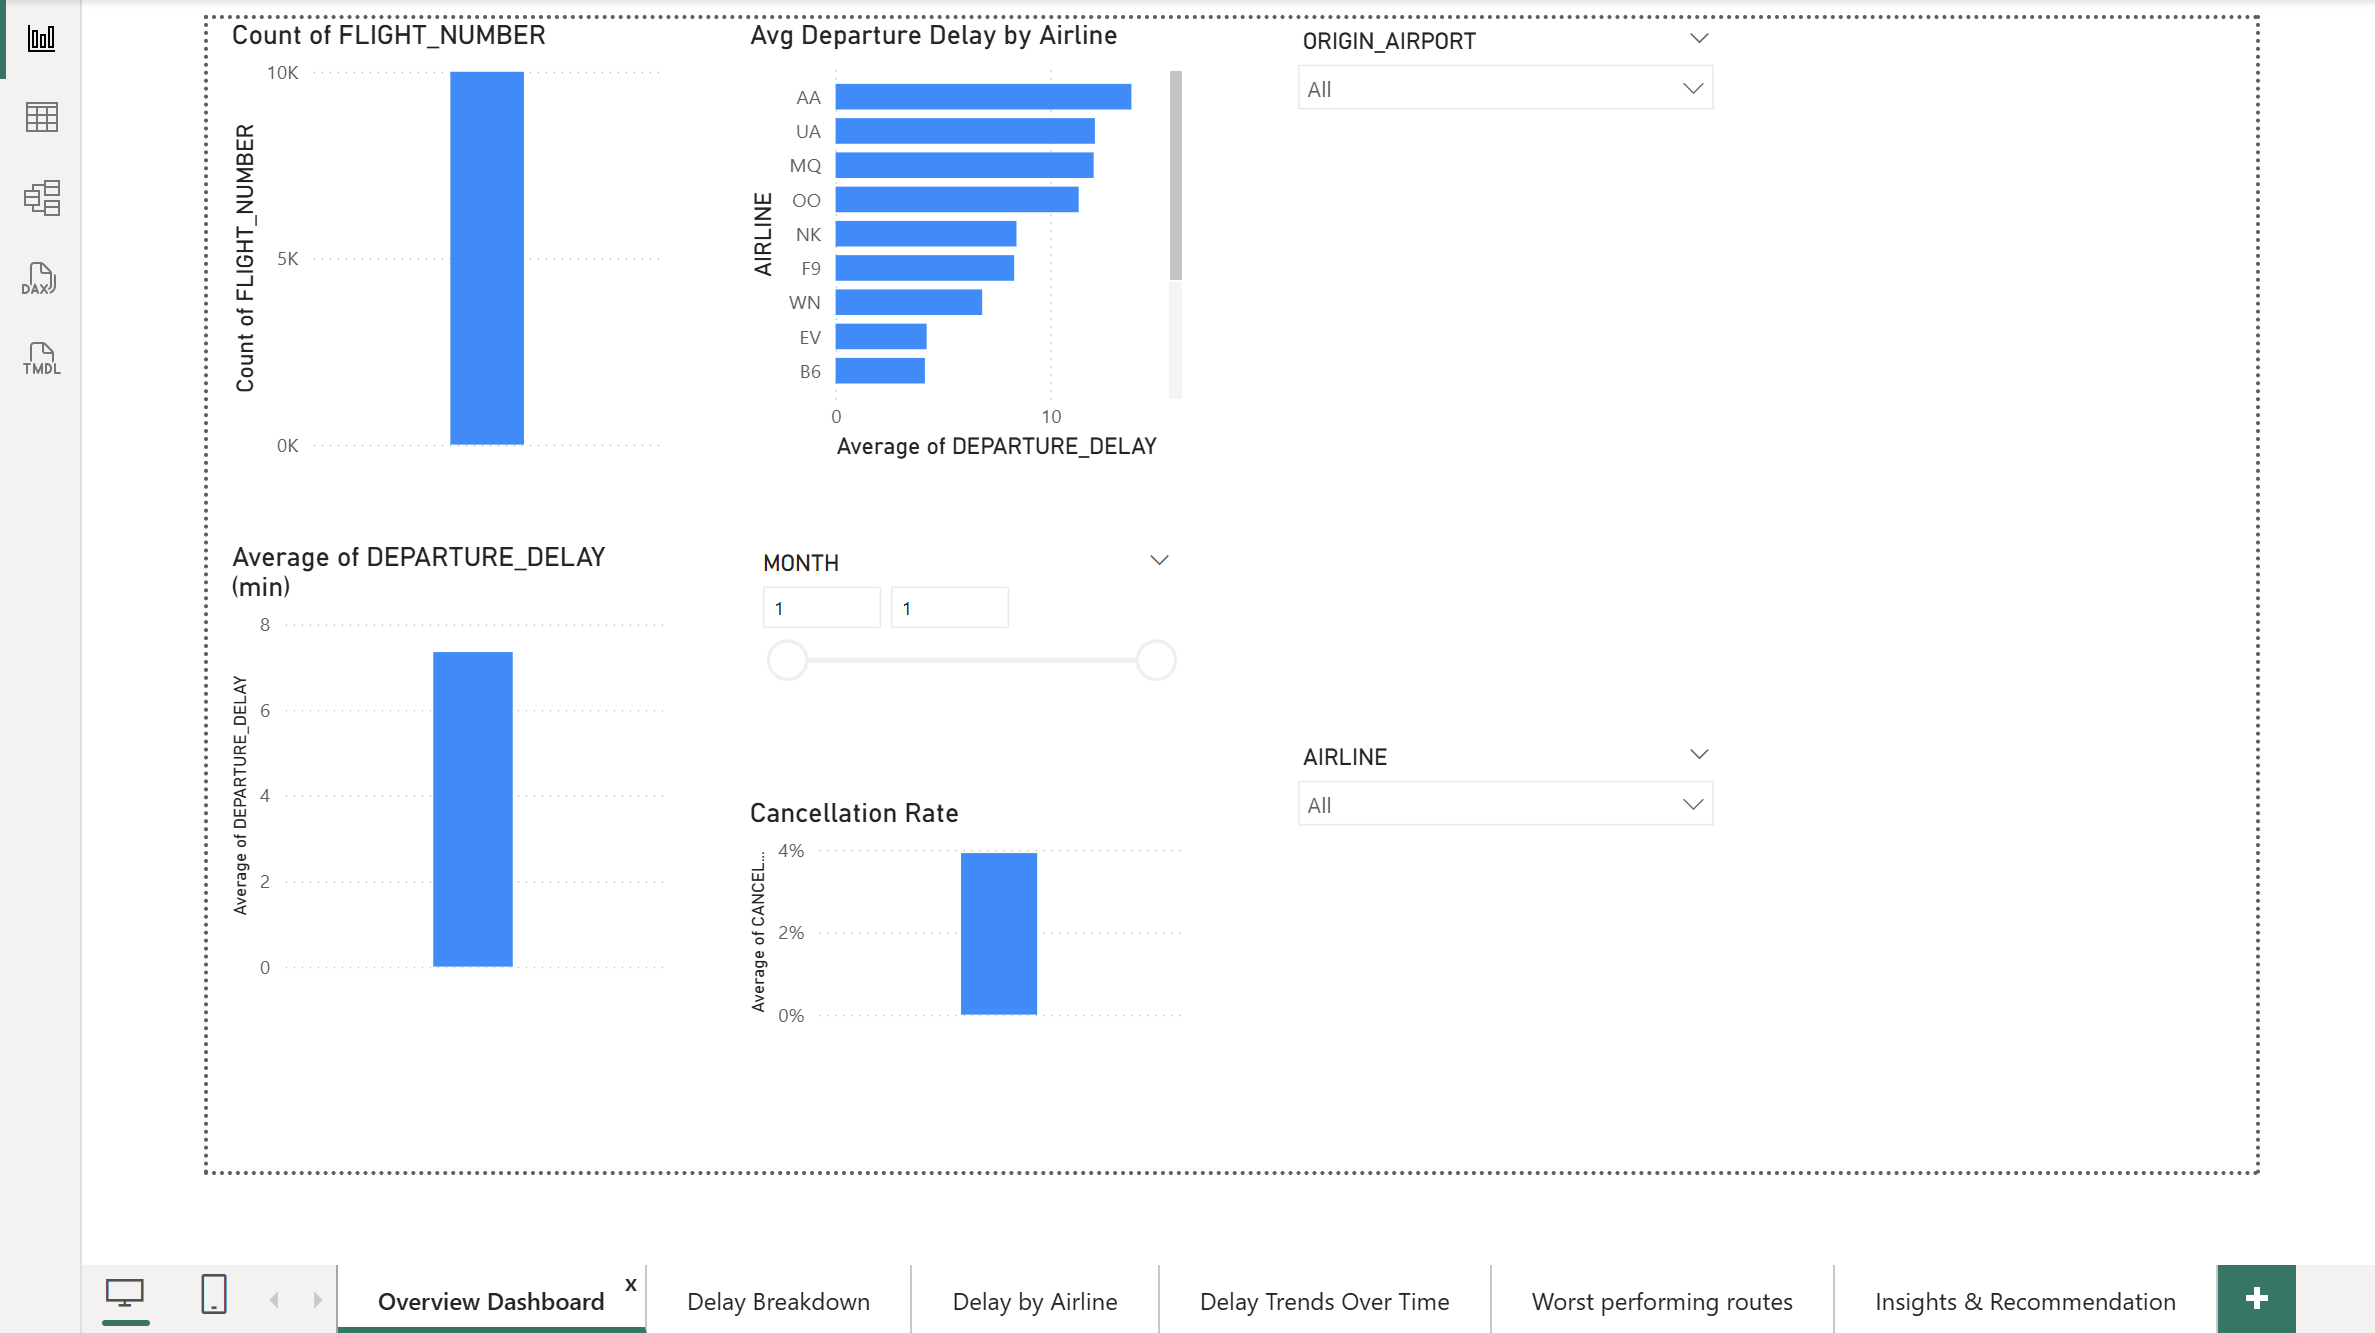

The dashboard page shown, as its layout file describes it:
{"tool":"powerbi","page":{"name":"Overview Dashboard","canvas":[1280,720],"ordinal":0},"visuals":[{"type":"clusteredColumnChart","fields":{"Y":["CountNonNull(flights.FLIGHT_NUMBER)"]},"box":[10,0,280,280],"z":0},{"type":"clusteredColumnChart","title":"Average of DEPARTURE_DELAY (min)","fields":{"Y":["Avg(flights.DEPARTURE_DELAY)"]},"box":[10,326.7,280,280],"z":1000},{"type":"clusteredColumnChart","title":"Cancellation Rate","fields":{"Y":["Avg(flights.CANCELLED)"]},"box":[333.8,486.2,280,150],"z":2000},{"type":"clusteredBarChart","title":"Avg Departure Delay by Airline","fields":{"Category":["flights.AIRLINE"],"Y":["Avg(flights.DEPARTURE_DELAY)"]},"box":[333.8,0,280,280],"z":3000},{"type":"slicer","fields":{"Values":["flights.AIRLINE"]},"box":[671.2,447.5,280,76.2],"z":4000},{"type":"slicer","fields":{"Values":["flights.MONTH"]},"box":[333.8,326.2,280,150],"z":5000},{"type":"slicer","fields":{"Values":["flights.ORIGIN_AIRPORT"]},"box":[671.2,0,280,280],"z":6000}]}

Visuals, with their boxes on the page's 1280x720 design canvas (x1, y1, x2, y2). These are canvas units, not pixel positions in the 2375x1333 screenshot, which may show the page scaled, cropped or inside an application window:
clusteredColumnChart - CountNonNull(flights.FLIGHT_NUMBER): box(10, 0, 290, 280)
"Average of DEPARTURE_DELAY (min)" clusteredColumnChart: box(10, 327, 290, 607)
"Cancellation Rate" clusteredColumnChart: box(334, 486, 614, 636)
"Avg Departure Delay by Airline" clusteredBarChart: box(334, 0, 614, 280)
slicer - flights.AIRLINE: box(671, 448, 951, 524)
slicer - flights.MONTH: box(334, 326, 614, 476)
slicer - flights.ORIGIN_AIRPORT: box(671, 0, 951, 280)
